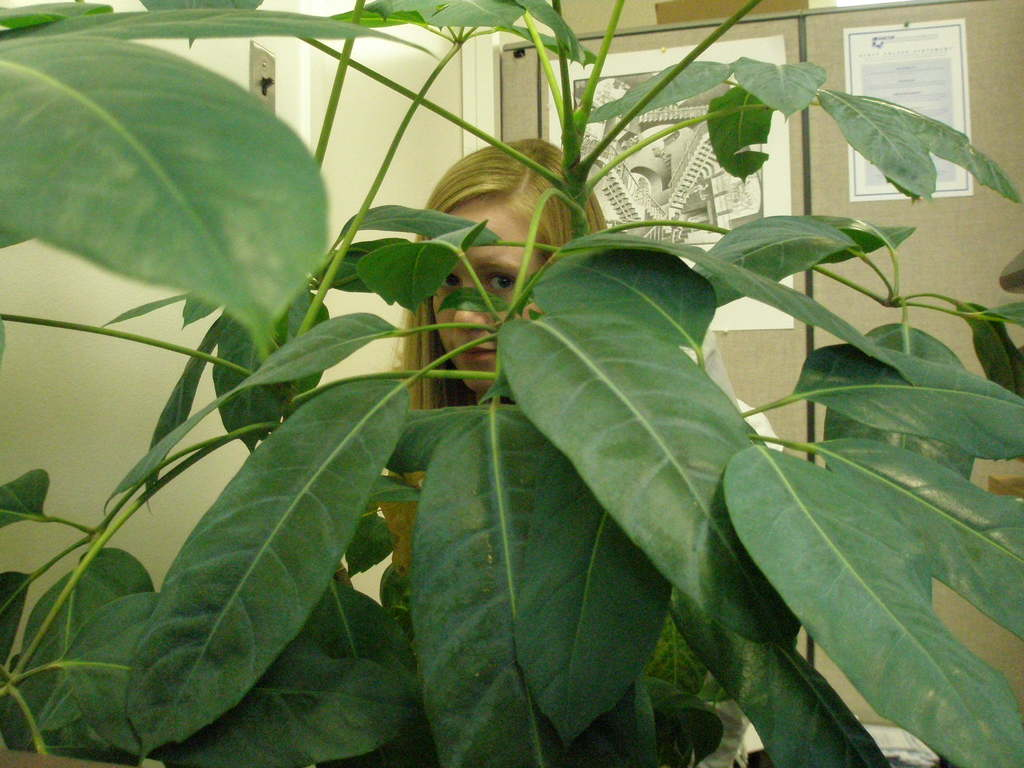Human-face: (431, 197, 556, 393)
